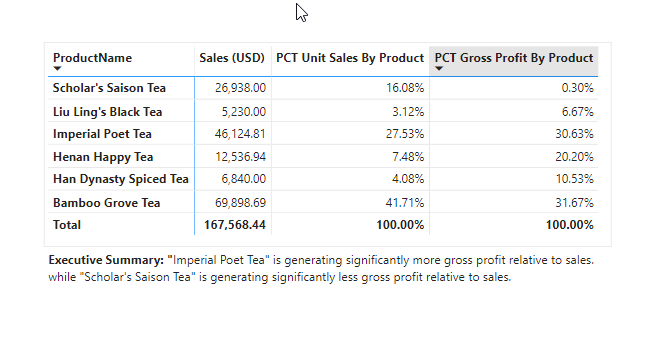

What the dashboard file says about the page in this screenshot:
{"tool":"powerbi","page":{"name":"Gross Profit and Unit Sales","canvas":[1280,720],"ordinal":1},"visuals":[{"type":"pivotTable","fields":{"Rows":["Products.ProductName"],"Values":["Sales.Sales (USD)","Sales.PCT Sales","Sales.PCT Gross Profit By Product"]},"box":[328,247,623,225],"z":0},{"type":"textbox","box":[328,472,623,57.6],"z":1000}]}

Visuals, with their boxes on the page's 1280x720 design canvas (x1, y1, x2, y2). These are canvas units, not pixel positions in the 661x337 screenshot, which may show the page scaled, cropped or inside an application window:
pivotTable - Products.ProductName x Sales.Sales (USD): select_region(328, 247, 951, 472)
textbox: select_region(328, 472, 951, 530)
